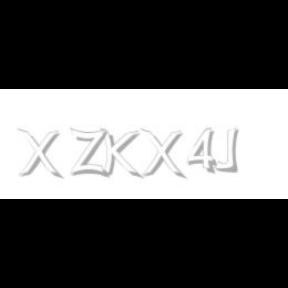4: (186, 128, 217, 174)
J: (214, 128, 238, 172)
K: (100, 128, 140, 180)
X: (17, 128, 61, 180), (140, 128, 184, 180)
Z: (70, 128, 108, 178)
